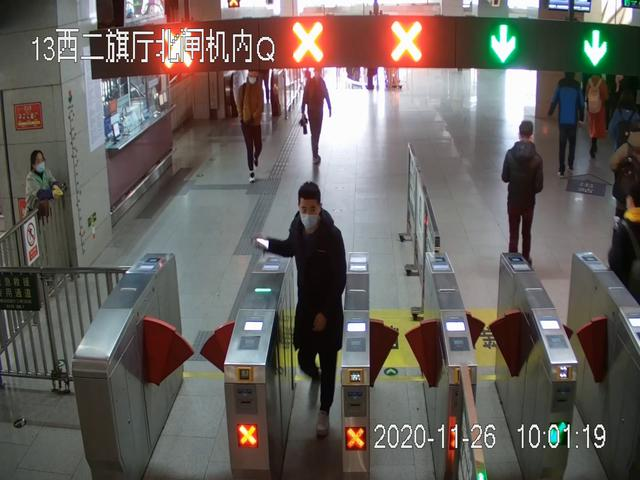person: (252, 181, 346, 434), (502, 120, 543, 266), (23, 151, 59, 264), (548, 69, 584, 180), (301, 68, 333, 164), (238, 70, 265, 179), (586, 74, 608, 161)
